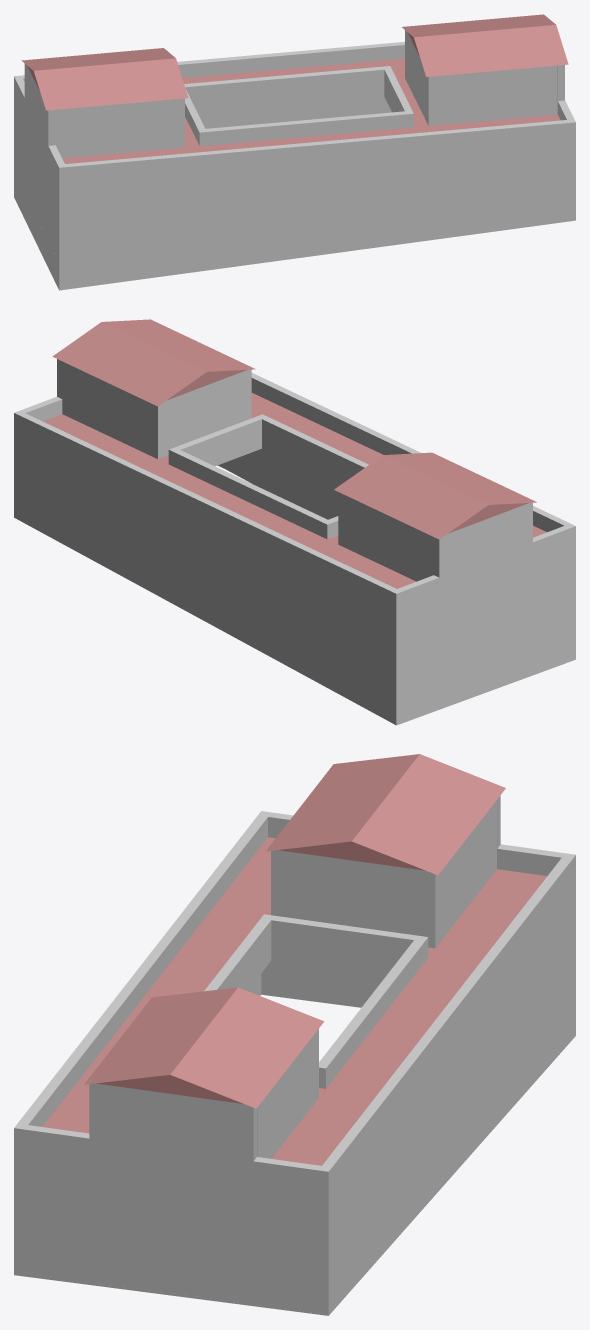
File: LOD_Block_3_2.glb
The picture shows the model from 3 angles, top to bottom: view 1: azimuth 30°, elevation 25°; view 2: azimuth 150°, elevation 25°; view 3: azimuth 270°, elevation 25°; orthographic projection. The views are drawn at different scales.
Parts seen in each view (by area): view 1: mesh_CityEngineMaterial_57; view 2: mesh_CityEngineMaterial_57; view 3: mesh_CityEngineMaterial_57.
Part boxes in pixels (bbox=[...]): mesh_CityEngineMaterial_57: bbox=[14, 14, 575, 290]; mesh_CityEngineMaterial_57: bbox=[14, 319, 575, 725]; mesh_CityEngineMaterial_57: bbox=[14, 754, 575, 1315].
Bounding box in the file's own units: 38.03 × 12.81 × 25.03.
